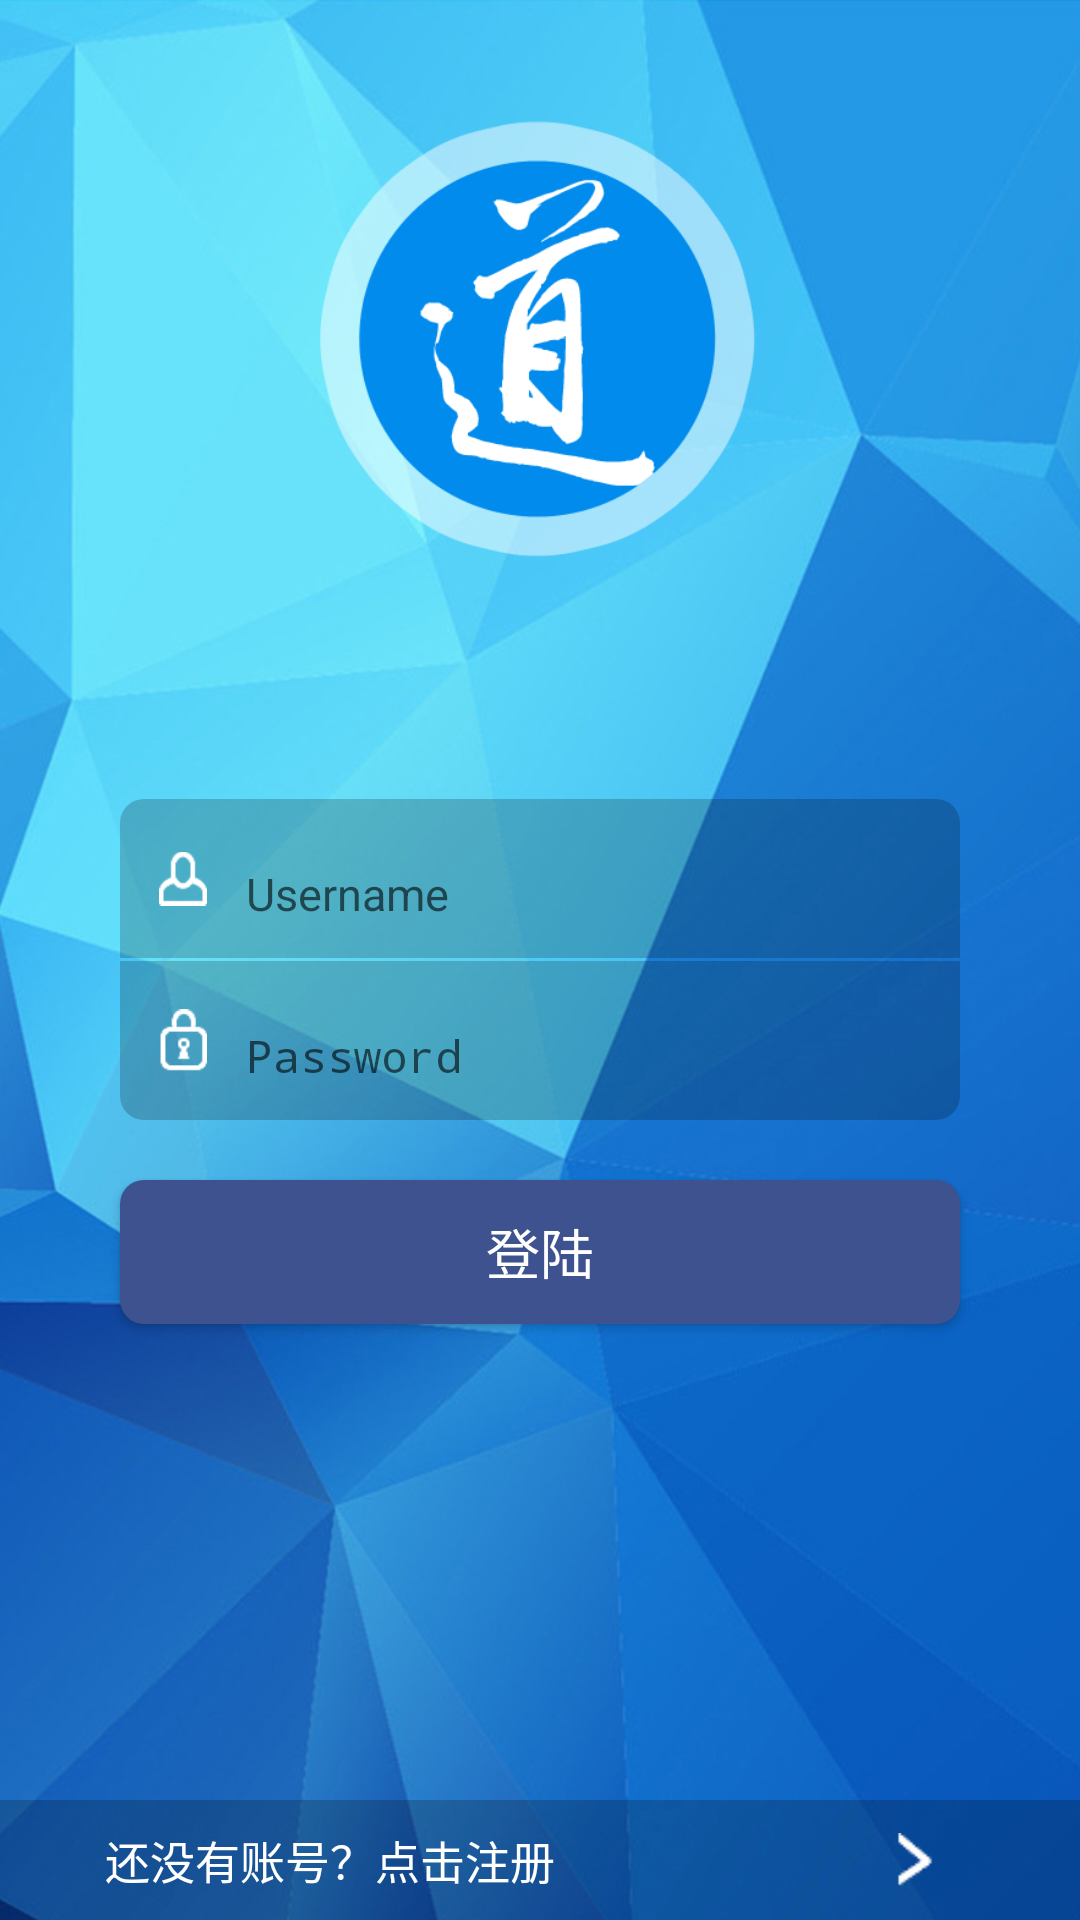

Point at icon controls on the screen. Image size 1080x1920, points as (x=x, y=y).
psword: (x=183, y=1040)
usr: (x=183, y=879)
